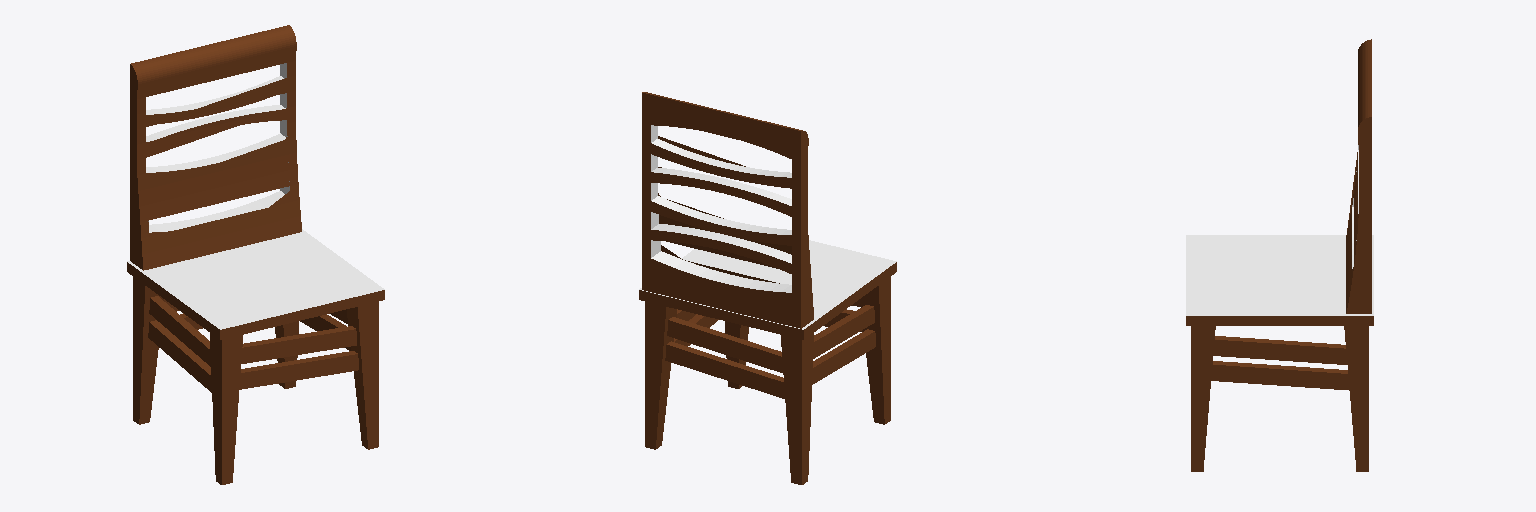
The model's file is kitchen_diningchairs.obj.
The picture shows the model from 3 angles: view 1: azimuth 30°, elevation 25°; view 2: azimuth 150°, elevation 25°; view 3: azimuth 270°, elevation 25°; orthographic projection.
Visible parts, largest first — view 1: Mesh9 Component_24_1 Model, Mesh1 Table_Leg1 Component_24_1 Model, Mesh7 Table_Leg4 Component_24_1 Model, Mesh3 Table_Leg2 Component_24_1 Model, Mesh2 Table_Leg1 Component_24_1 Model, Mesh8 Table_Leg4 Component_24_1 Model, Mesh5 Table_Leg3 Component_24_1 Model; view 2: Mesh9 Component_24_1 Model, Mesh5 Table_Leg3 Component_24_1 Model, Mesh7 Table_Leg4 Component_24_1 Model, Mesh1 Table_Leg1 Component_24_1 Model, Mesh6 Table_Leg3 Component_24_1 Model, Mesh8 Table_Leg4 Component_24_1 Model, Mesh3 Table_Leg2 Component_24_1 Model; view 3: Mesh9 Component_24_1 Model, Mesh3 Table_Leg2 Component_24_1 Model, Mesh4 Table_Leg2 Component_24_1 Model, Mesh5 Table_Leg3 Component_24_1 Model.
Part boxes in pixels (x1,y1,x2,y2): Mesh9 Component_24_1 Model: (127, 25, 384, 339); Mesh1 Table_Leg1 Component_24_1 Model: (210, 326, 356, 484); Mesh7 Table_Leg4 Component_24_1 Model: (133, 277, 210, 424); Mesh3 Table_Leg2 Component_24_1 Model: (330, 302, 378, 449); Mesh2 Table_Leg1 Component_24_1 Model: (239, 351, 358, 389); Mesh8 Table_Leg4 Component_24_1 Model: (148, 320, 211, 392); Mesh5 Table_Leg3 Component_24_1 Model: (164, 299, 298, 388); Mesh9 Component_24_1 Model: (639, 92, 896, 339); Mesh5 Table_Leg3 Component_24_1 Model: (645, 302, 782, 449); Mesh7 Table_Leg4 Component_24_1 Model: (781, 305, 874, 484); Mesh1 Table_Leg1 Component_24_1 Model: (851, 277, 890, 424); Mesh6 Table_Leg3 Component_24_1 Model: (665, 341, 784, 398); Mesh8 Table_Leg4 Component_24_1 Model: (812, 329, 875, 384); Mesh3 Table_Leg2 Component_24_1 Model: (677, 309, 748, 388); Mesh9 Component_24_1 Model: (1186, 39, 1373, 325); Mesh3 Table_Leg2 Component_24_1 Model: (1191, 326, 1346, 471); Mesh4 Table_Leg2 Component_24_1 Model: (1211, 361, 1349, 390); Mesh5 Table_Leg3 Component_24_1 Model: (1344, 326, 1368, 471).
Bounding box in the file's own units: 0.5334 × 1.1 × 0.5239.